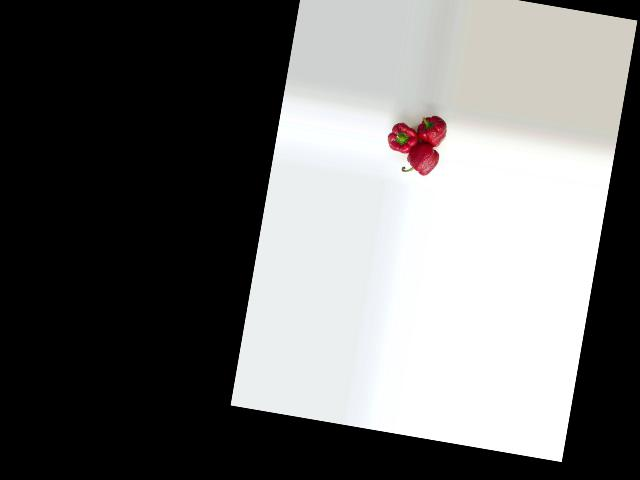bell_pepper: (398, 142, 442, 185)
